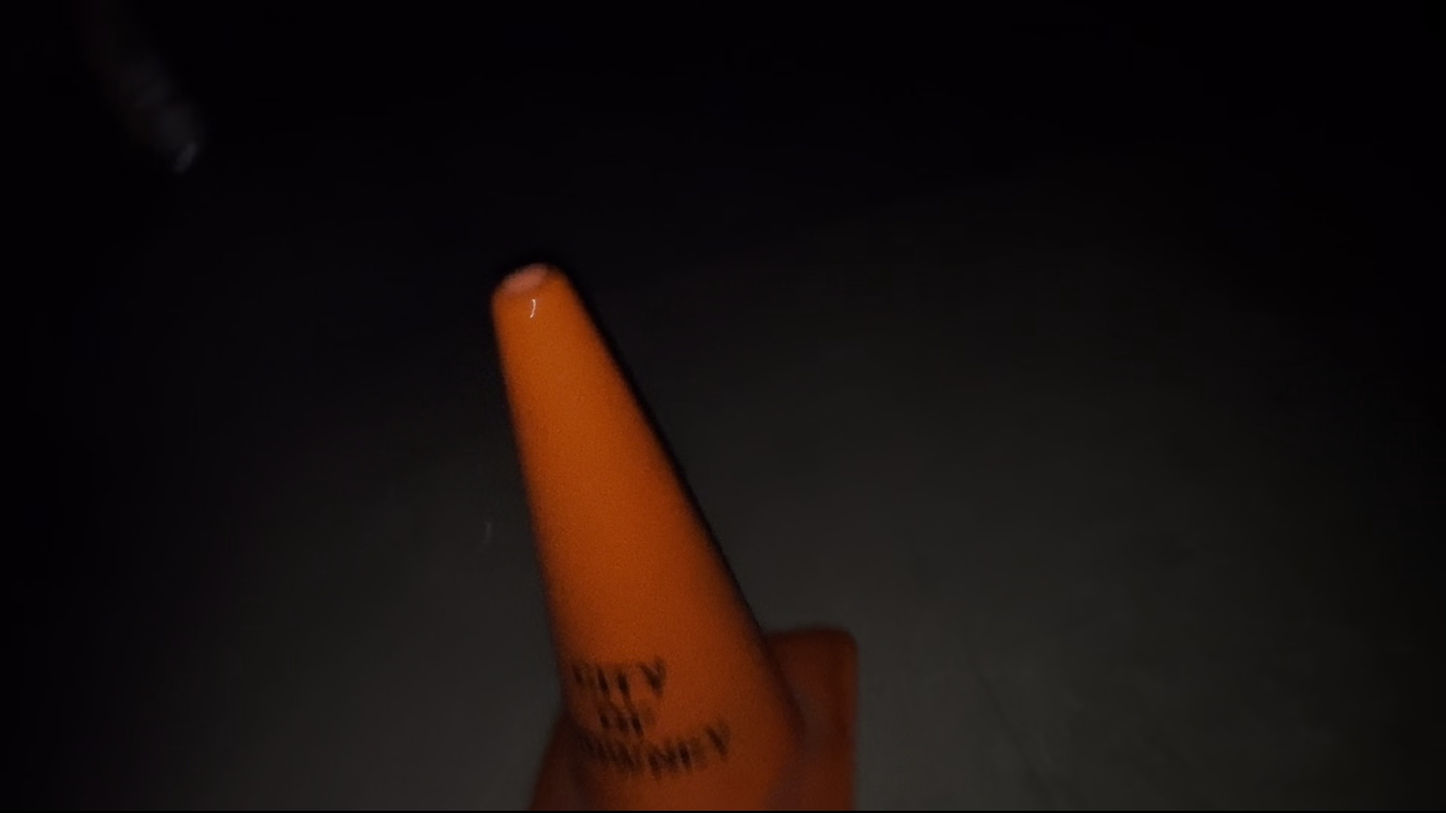traffic_cone: (488, 261, 859, 810)
